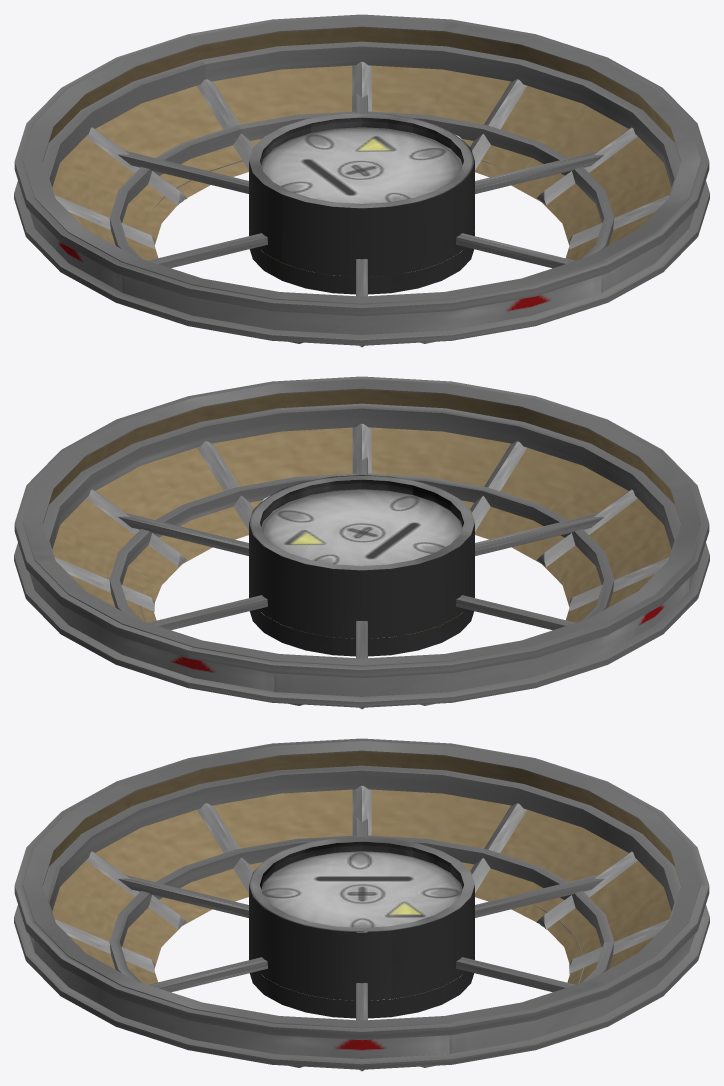
The picture shows the model from 3 angles, top to bottom: view 1: azimuth 30°, elevation 25°; view 2: azimuth 150°, elevation 25°; view 3: azimuth 270°, elevation 25°; orthographic projection.
Parts seen in each view (by area): view 1: Adapter1812, Cylinder042, Tube001, Tube005, Tube003, Tube002, Cylinder045, Box136, Box023, Bracer034, Bracer036, Bracer033 (+5 smaller); view 2: Adapter1812, Cylinder042, Tube001, Tube005, Tube003, Tube002, Cylinder045, Box023, Box137, Bracer040, Bracer038, Bracer041 (+5 smaller); view 3: Adapter1812, Cylinder042, Tube001, Tube005, Tube003, Tube002, Cylinder045, Box137, Box136, Bracer042, Bracer032, Bracer033 (+5 smaller).
Part boxes in pixels (x1,y1,x2,y2): Adapter1812: (23, 17, 700, 334); Cylinder042: (249, 113, 474, 276); Tube001: (43, 41, 680, 198); Tube005: (14, 14, 709, 316); Tube003: (14, 181, 709, 345); Tube002: (109, 111, 614, 258); Cylinder045: (249, 230, 474, 294); Box136: (118, 151, 575, 268); Box023: (148, 150, 604, 268); Bracer034: (197, 79, 253, 170); Bracer036: (470, 79, 526, 170); Bracer033: (86, 127, 187, 205); Adapter1812: (23, 379, 700, 696); Cylinder042: (249, 475, 474, 638); Tube001: (43, 403, 680, 560); Tube005: (14, 376, 709, 678); Tube003: (14, 543, 709, 707); Tube002: (109, 473, 614, 620); Cylinder045: (249, 592, 474, 656); Box023: (118, 513, 575, 630); Box137: (148, 512, 604, 630); Bracer040: (470, 441, 526, 531); Bracer038: (197, 441, 253, 530); Bracer041: (537, 489, 637, 567); Adapter1812: (23, 741, 700, 1058); Cylinder042: (249, 837, 474, 1000); Tube001: (43, 765, 680, 922); Tube005: (14, 738, 709, 1040); Tube003: (14, 905, 709, 1069); Tube002: (109, 835, 614, 982); Cylinder045: (249, 954, 474, 1018); Box137: (118, 875, 575, 992); Box136: (148, 874, 604, 992); Bracer042: (197, 803, 253, 893); Bracer032: (470, 803, 526, 892); Bracer033: (536, 851, 637, 929).
Size of what is drawn, in the model's own units: 1.96 by 0.2695 by 1.96.
